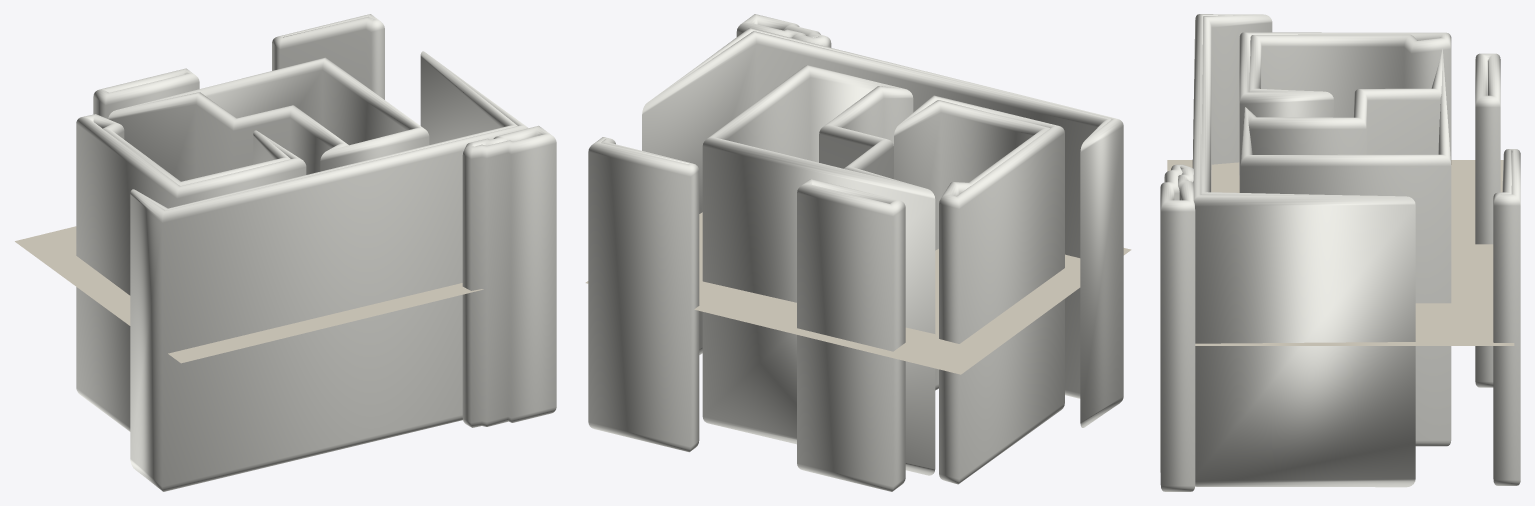
Rendered from 77278b07-20c6-4439-8223-1fbf279cc13d_model.glb.
3 renders of one model, left to right at view 1: azimuth 30°, elevation 25°; view 2: azimuth 150°, elevation 25°; view 3: azimuth 270°, elevation 25°, orthographic. The views are drawn at different scales.
Visible parts, largest first — view 1: wall_1, wall_0, wall_2, wall_3, Floor, wall_5, wall_4; view 2: wall_2, wall_3, wall_1, wall_5, wall_4, Floor, wall_0; view 3: wall_1, wall_2, wall_3, wall_0, Floor, wall_5, wall_4.
Boxes of the visible parts, x1,y1,x2,y2 form: wall_1: (130,51,528,491); wall_0: (462,125,556,427); wall_2: (108,57,429,181); wall_3: (76,114,306,431); Floor: (15,226,483,363); wall_5: (272,14,384,99); wall_4: (93,68,199,118); wall_2: (702,65,935,475); wall_3: (894,95,1064,484); wall_1: (642,28,1123,427); wall_5: (588,137,699,452); wall_4: (797,179,905,491); Floor: (585,212,1131,374); wall_0: (736,14,831,47); wall_1: (1192,14,1415,487); wall_2: (1240,48,1451,446); wall_3: (1239,32,1451,192); wall_0: (1160,164,1195,491); Floor: (1167,160,1514,345); wall_5: (1493,149,1520,485); wall_4: (1475,53,1500,387).
Bounding box in the file's own units: 9 × 6.37 × 7.15.
